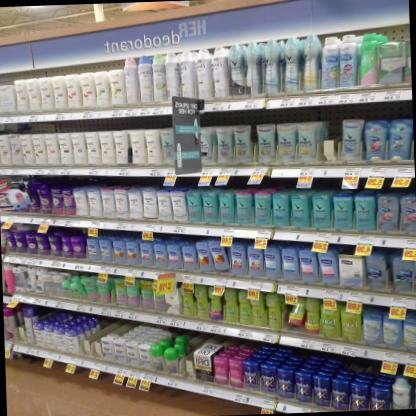empty_space: (319, 104, 341, 164), (179, 328, 196, 380), (91, 314, 105, 361), (80, 312, 93, 359), (15, 302, 25, 344)
